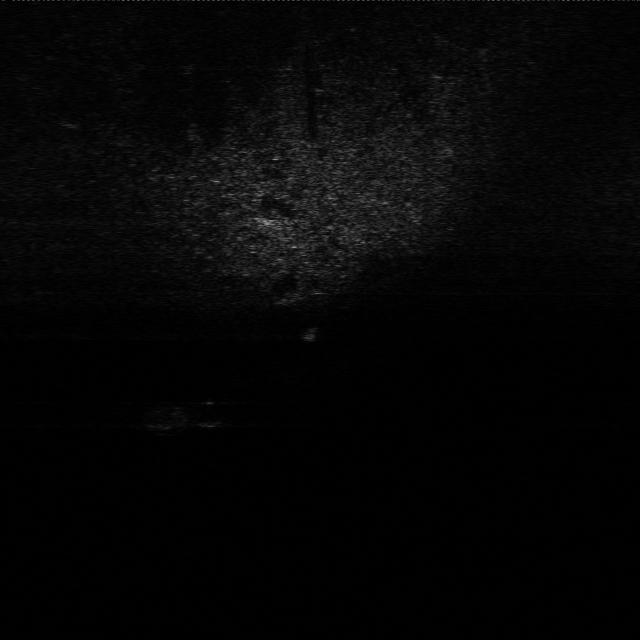ball: (193, 400, 229, 429)
circle cage: (134, 397, 190, 434)
cylinder: (299, 322, 322, 347)
